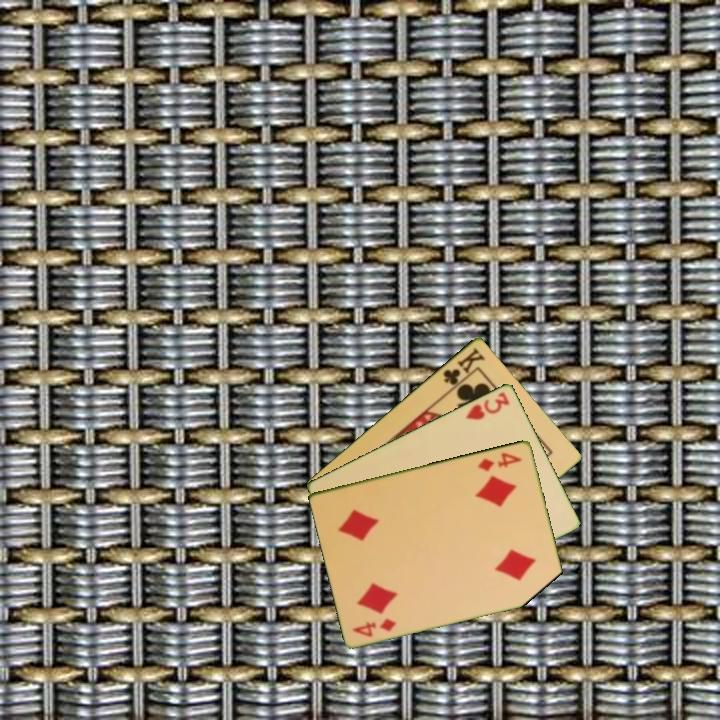3h: (462, 388, 513, 423)
4d: (474, 449, 525, 474), (349, 615, 399, 639)
Kc: (439, 344, 488, 393)
